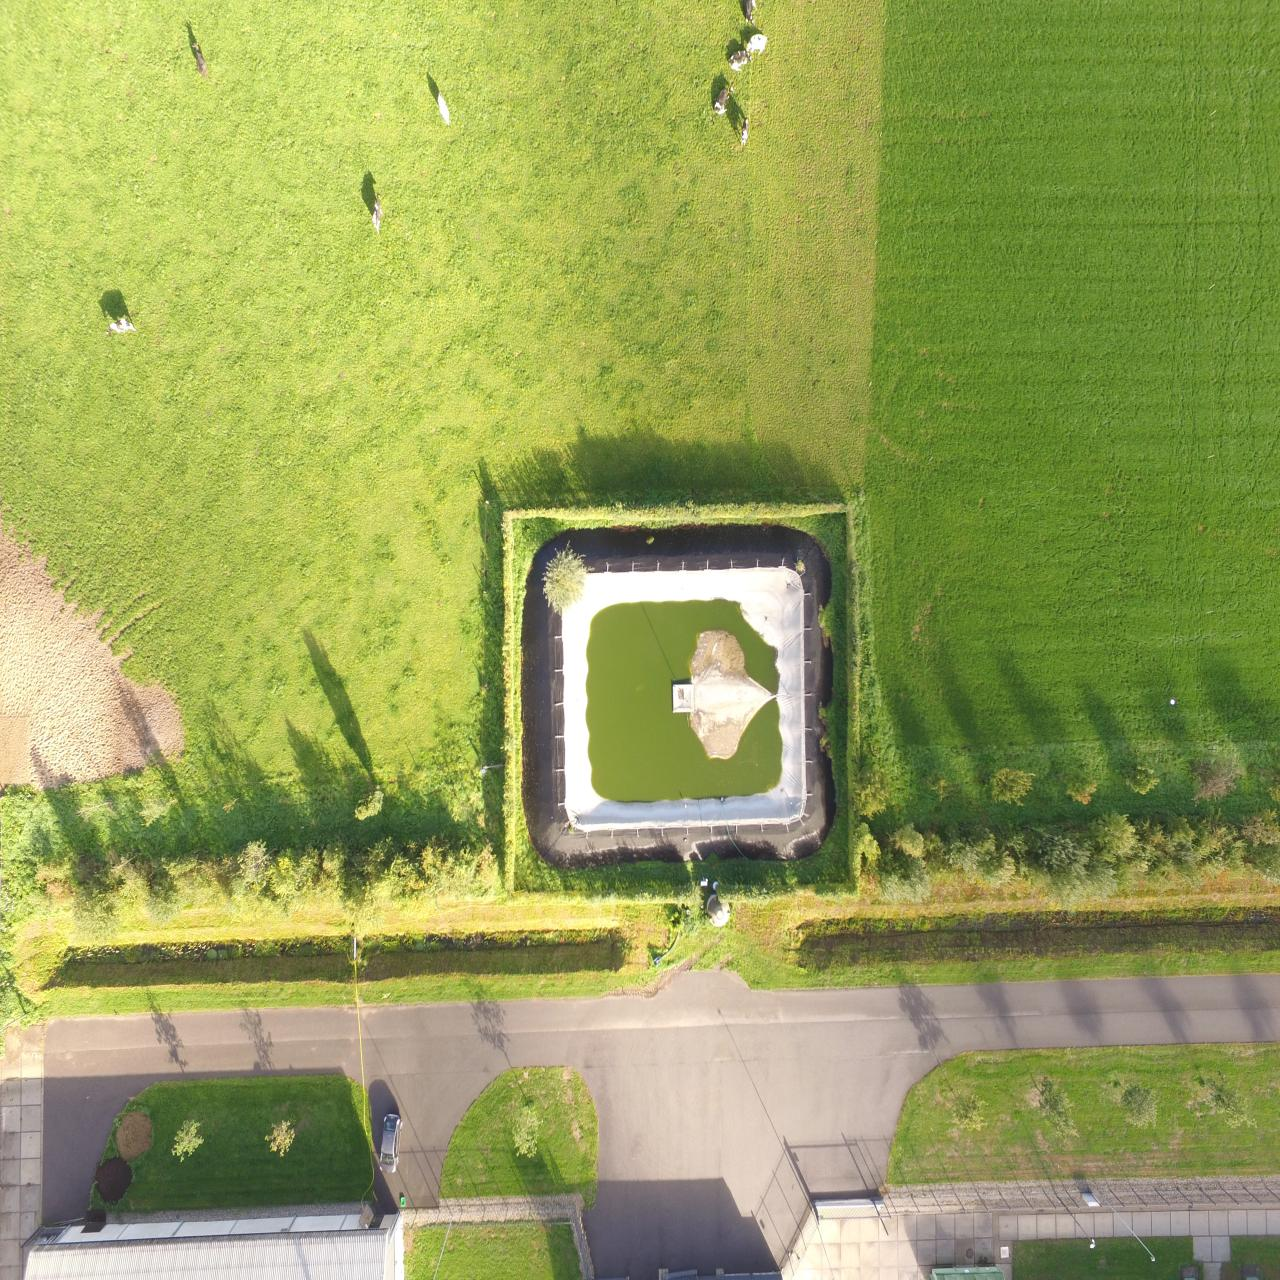cow: (186, 41, 212, 82), (432, 88, 452, 127), (714, 84, 734, 115), (723, 49, 749, 72), (105, 316, 134, 336), (743, 34, 768, 53), (737, 114, 752, 144), (371, 192, 381, 236)
